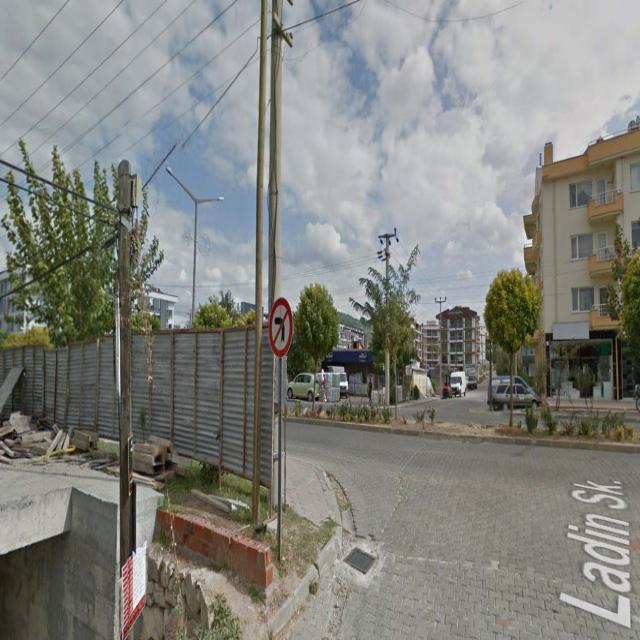soladonulmez: (271, 299, 292, 353)
